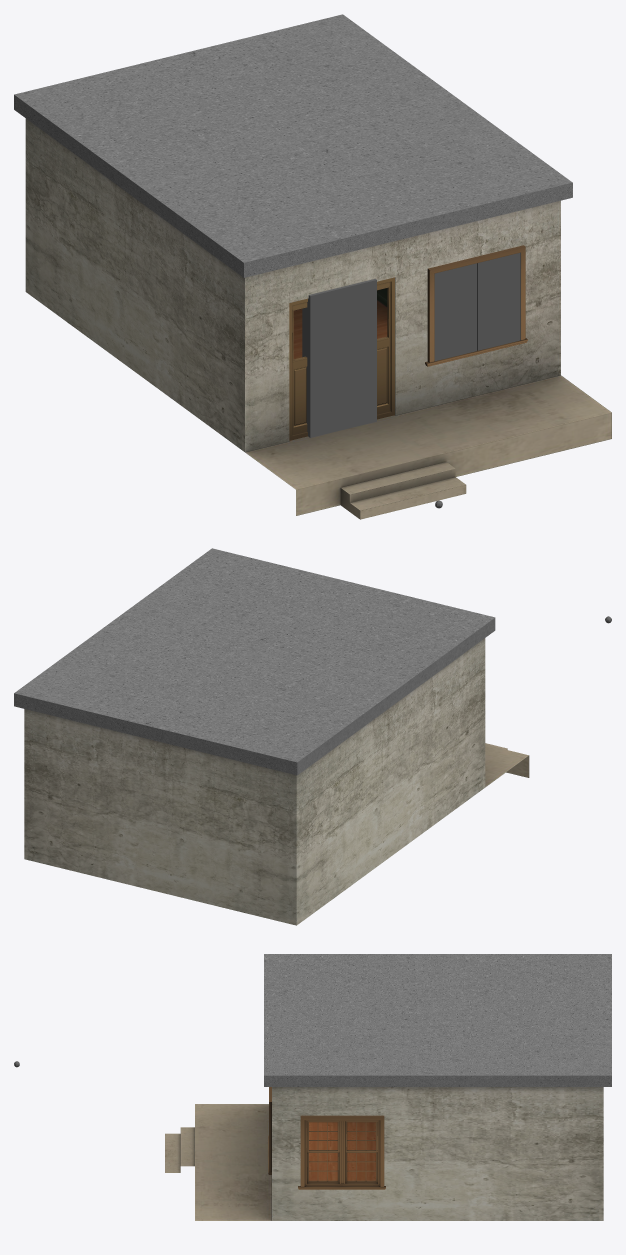
The model's file is house_v12.dae.
3 renders of one model, top to bottom at view 1: azimuth 30°, elevation 25°; view 2: azimuth 150°, elevation 25°; view 3: azimuth 270°, elevation 25°, orthographic. The views are drawn at different scales.
Parts seen in each view (by area): view 1: slabRoof, wallLeft_outside, wallFront, slab, SO_door, frontSteps, doorFrame, SO_window1sashRight, SO_window1sashLeft, window1_frame; view 2: slabRoof, wallBack_outside, wallLeft_outside, slab; view 3: slabRoof, wallRight_outside, slab, LR_window_LR_window02_frame, frontSteps, LR_window_LR_window02_sashRight, LR_window_LR_window02_sashLeft.
Part boxes in pixels (bbox=[...]): slabRoof: bbox=[14, 14, 572, 277]; wallLeft_outside: bbox=[25, 118, 244, 451]; wallFront: bbox=[245, 200, 560, 452]; slab: bbox=[245, 300, 611, 515]; SO_door: bbox=[302, 278, 376, 437]; frontSteps: bbox=[340, 462, 466, 519]; doorFrame: bbox=[289, 277, 394, 440]; SO_window1sashRight: bbox=[477, 252, 520, 350]; SO_window1sashLeft: bbox=[434, 263, 476, 361]; window1_frame: bbox=[425, 245, 527, 366]; slabRoof: bbox=[14, 548, 495, 775]; wallBack_outside: bbox=[24, 709, 296, 925]; wallLeft_outside: bbox=[296, 638, 485, 925]; slab: bbox=[485, 744, 529, 787]; slabRoof: bbox=[264, 954, 611, 1086]; wallRight_outside: bbox=[272, 1087, 603, 1220]; slab: bbox=[195, 1104, 375, 1220]; LR_window_LR_window02_frame: bbox=[298, 1115, 385, 1189]; frontSteps: bbox=[165, 1127, 194, 1172]; LR_window_LR_window02_sashRight: bbox=[307, 1152, 339, 1182]; LR_window_LR_window02_sashLeft: bbox=[345, 1152, 377, 1182].
Size of the model in its own units: 520 by 335 by 1082.
10 materials, 9 textured.
